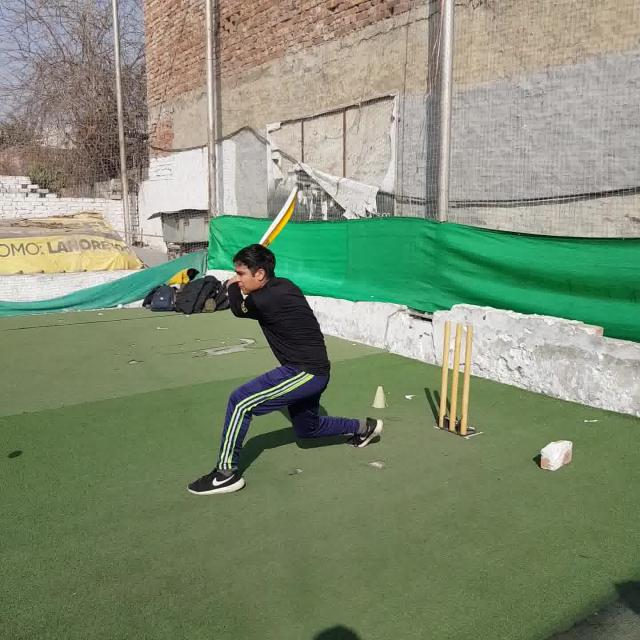bat: (259, 185, 299, 246)
